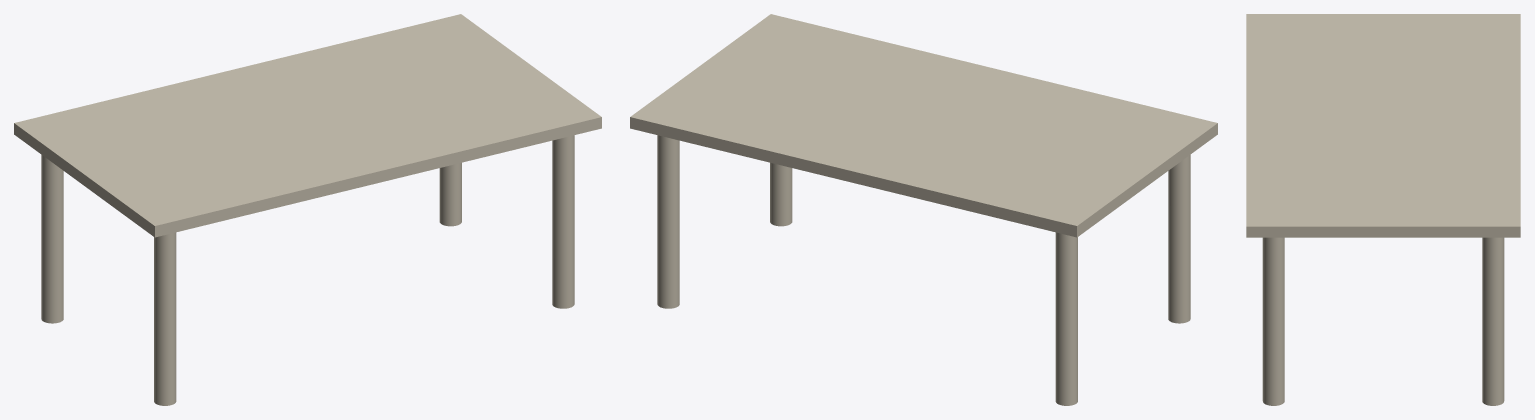
The model's file is vidaxl-outdoor-316401-g2-proxy.glb.
3 views of the same model, side by side, from view 1: azimuth 30°, elevation 25°; view 2: azimuth 150°, elevation 25°; view 3: azimuth 270°, elevation 25° (orthographic). The views are drawn at different scales.
Parts seen in each view (by area): view 1: proxy_body, leg (×4); view 2: proxy_body, leg (×4); view 3: proxy_body, leg (×2).
Boxes of the visible parts, x1,y1,x2,y2 form: proxy_body: [14, 14, 601, 237]; leg (×4): [41, 135, 574, 405]; proxy_body: [630, 14, 1217, 237]; leg (×4): [657, 135, 1190, 405]; proxy_body: [1246, 14, 1520, 237]; leg (×2): [1262, 237, 1504, 405].
Bounding box in the file's own units: 1.1 × 0.45 × 0.6.
